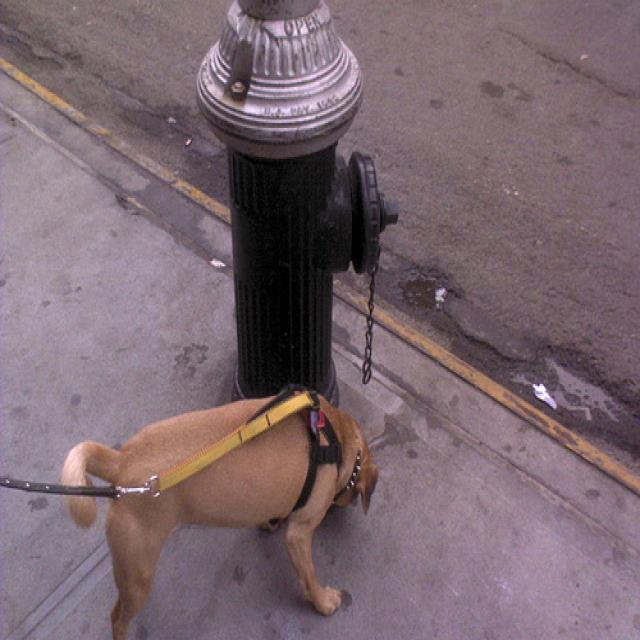fire_hydrant: (196, 0, 398, 408)
